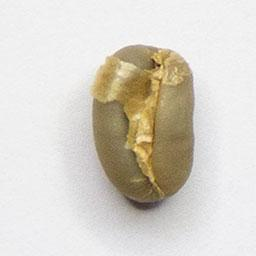peaberry: (88, 40, 201, 209)
